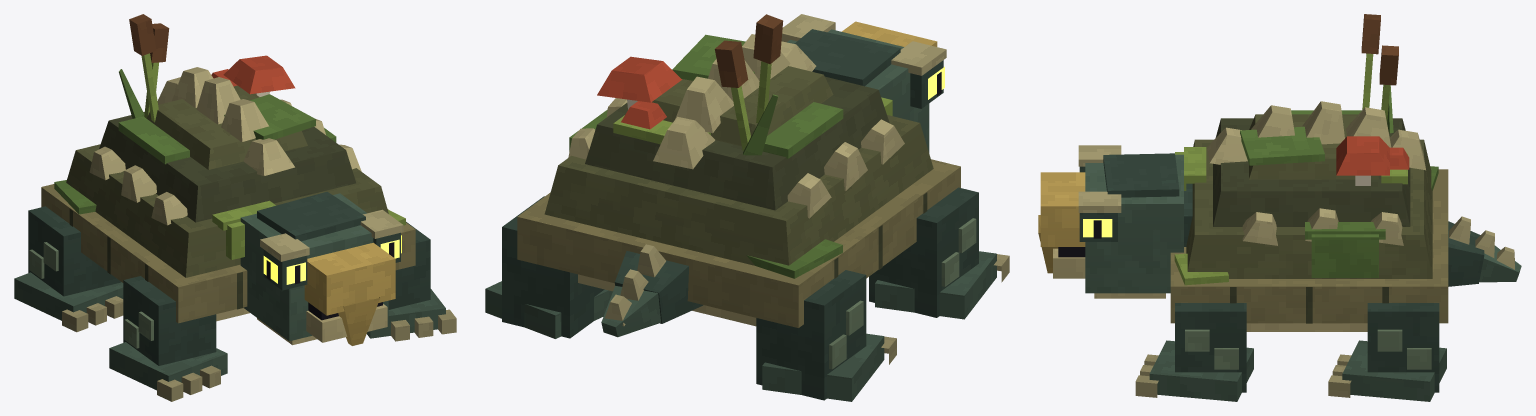
Rendered from mob_snapper.glb.
3 renders of one model, left to right at view 1: azimuth 30°, elevation 25°; view 2: azimuth 150°, elevation 25°; view 3: azimuth 270°, elevation 25°, orthographic. The views are drawn at different scales.
Parts seen in each view (by area): view 1: mob_snapper, leg_fr, leg_br, leg_fl, glow_eyes; view 2: mob_snapper, leg_br, leg_fr, leg_bl, sway_tail; view 3: mob_snapper, leg_bl, leg_fl, sway_tail, glow_eyes.
Part boxes in pixels (<box>): mob_snapper: <box>41,14,415,345</box>; leg_fr: <box>109,276,227,401</box>; leg_br: <box>14,206,123,332</box>; leg_fl: <box>367,222,456,341</box>; glow_eyes: <box>263,235,401,284</box>; mob_snapper: <box>517,14,960,327</box>; leg_br: <box>756,270,896,401</box>; leg_fr: <box>869,187,1009,319</box>; leg_bl: <box>485,196,612,338</box>; sway_tail: <box>601,244,703,337</box>; mob_snapper: <box>1038,14,1448,331</box>; leg_bl: <box>1328,303,1446,401</box>; leg_fl: <box>1135,303,1253,401</box>; sway_tail: <box>1448,216,1521,286</box>; glow_eyes: <box>1083,219,1112,237</box>.
Size of the model in its own units: 1.62 by 1.39 by 2.16.
16 materials, 13 textured.
